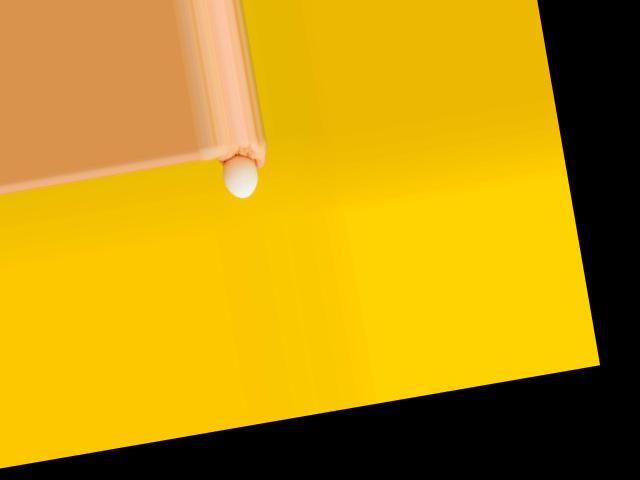egg: (221, 152, 261, 200)
